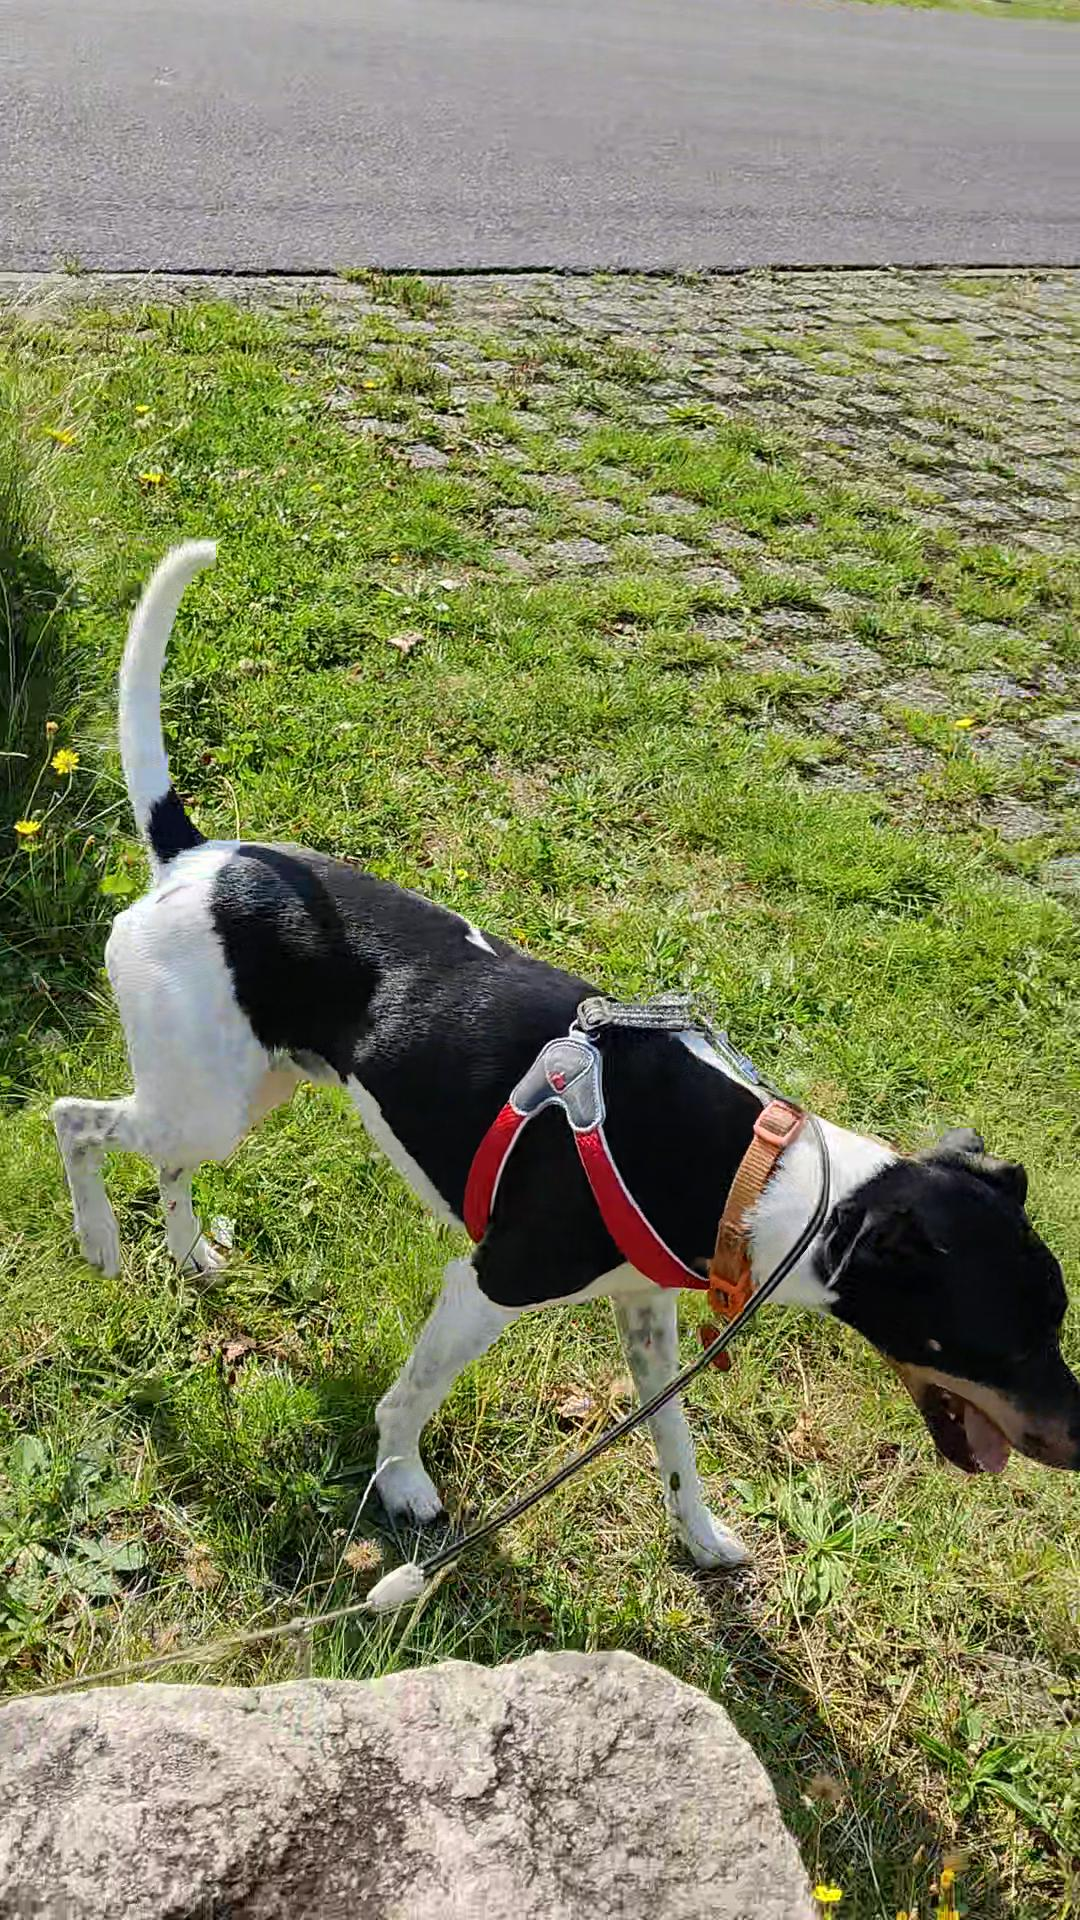Dog: (38, 513, 1079, 1575)
